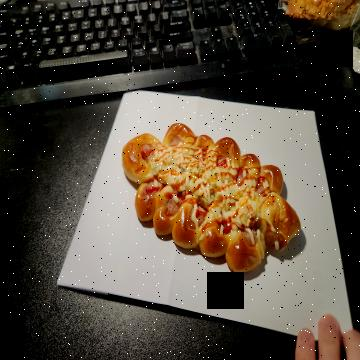pizza_bread: (122, 123, 302, 278)
